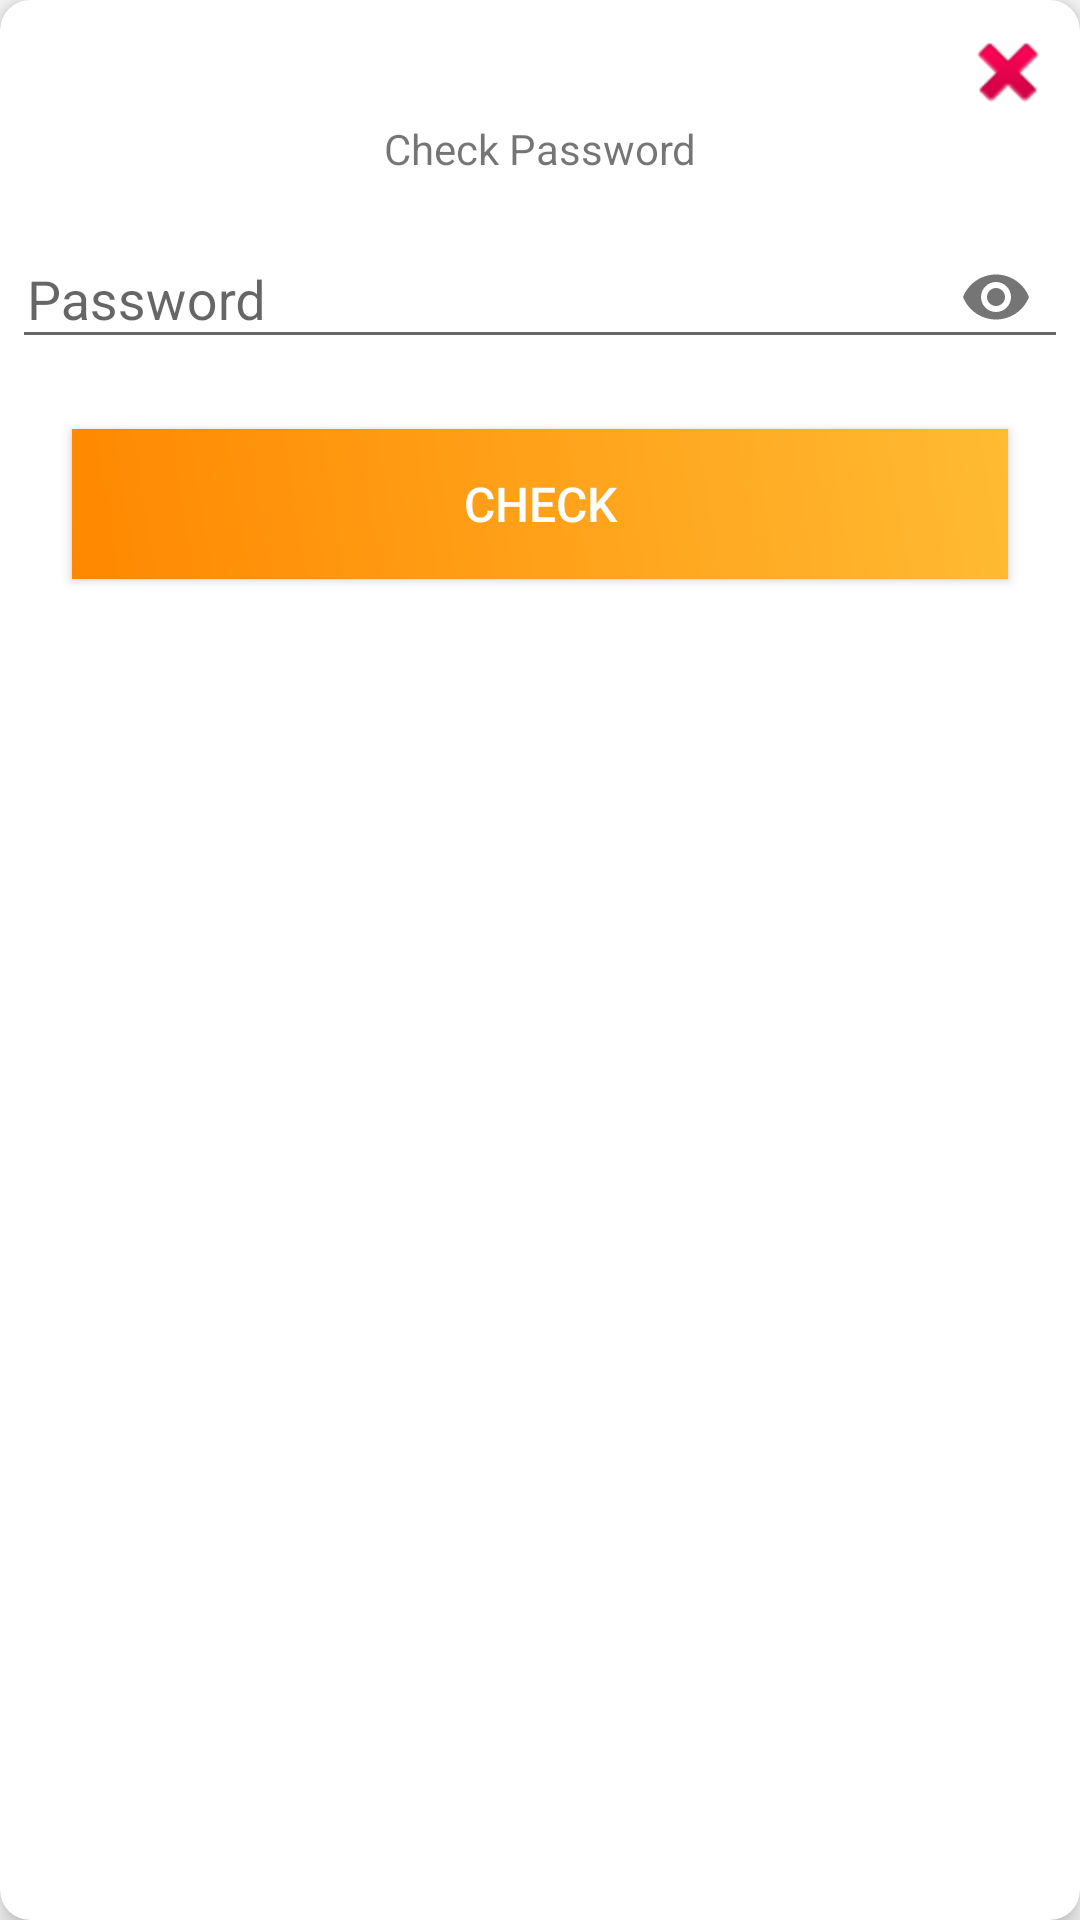

Locate icon controls on the screen. Image size 1080 x 1920, boxes as (x1, y1, x2, y2).
delete: (977, 43, 1039, 102)
